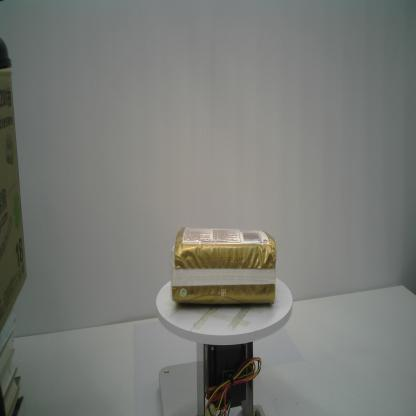Tissue: (170, 226, 278, 306)
